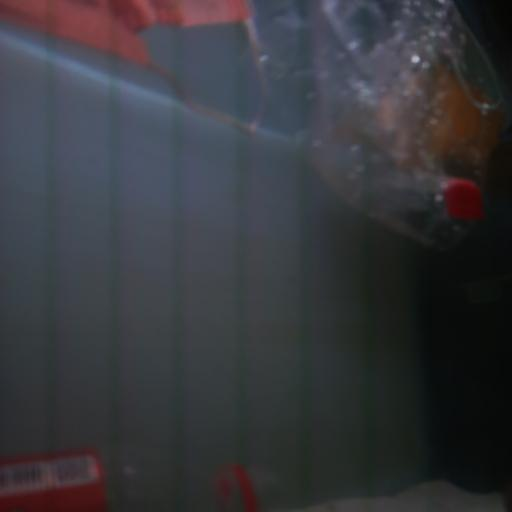bottle_cap: (444, 183, 484, 224)
mask: (3, 6, 276, 139), (370, 71, 499, 163)
plastic_bag: (265, 0, 512, 257)
plastic_bottle: (0, 451, 269, 512)
